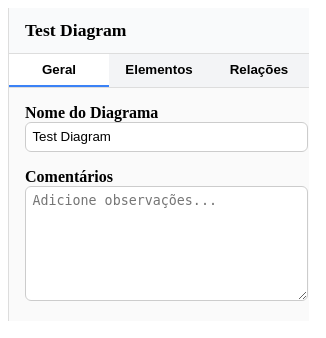
Test: Sidebar › mostra mensagem quando não há elementos
Click the button "Elementos" at (159, 70), box [109,54,209,87]
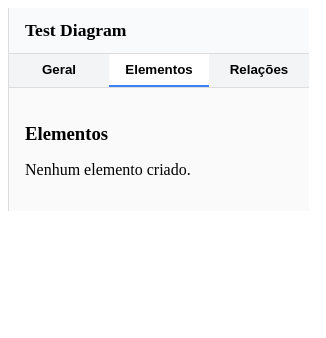
Result: the text "Nenhum elemento criado." is shown at [25,161,191,178]
